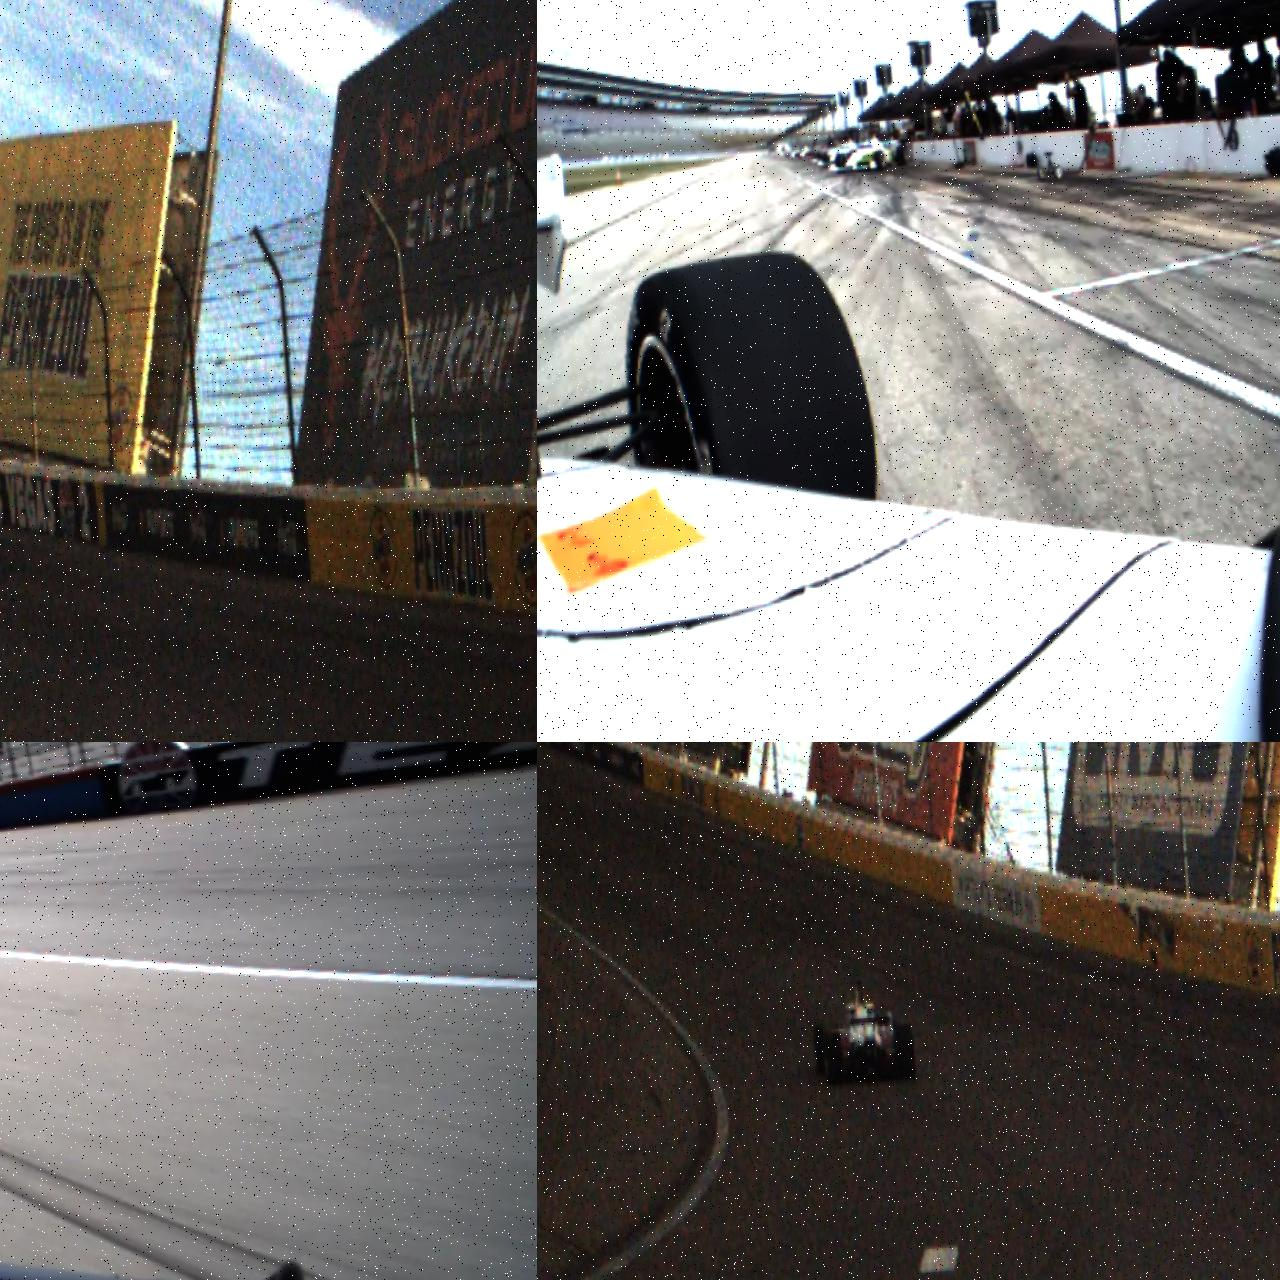AV: (809, 975, 918, 1089), (828, 130, 908, 175)
Wheel: (617, 245, 879, 522), (896, 1023, 918, 1083), (824, 1032, 845, 1089), (811, 1024, 830, 1077), (896, 147, 907, 166), (874, 150, 884, 170), (837, 152, 845, 173)
